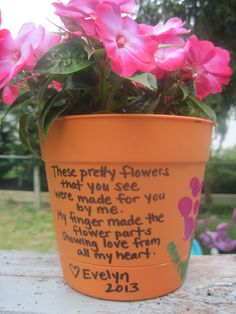tire: (36, 114, 215, 302)
